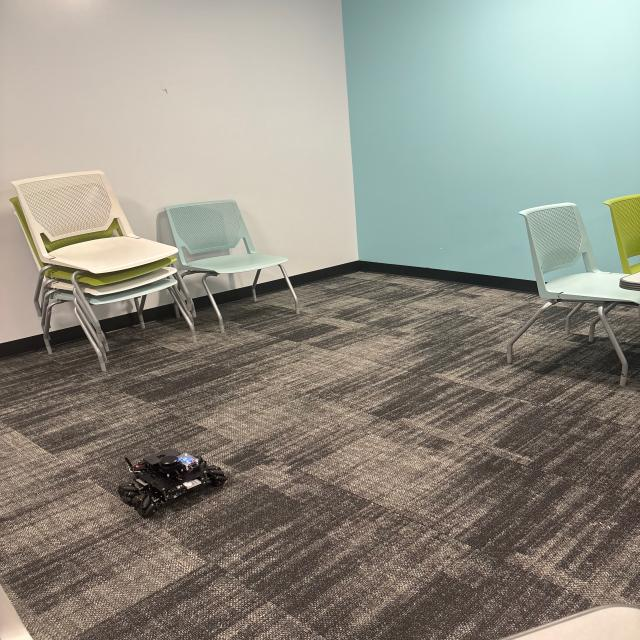ArduinoCar3: (116, 446, 234, 516)
